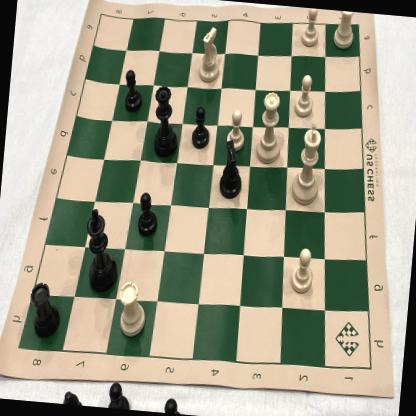black-king: (80, 206, 126, 299)
black-knight: (214, 138, 252, 202)
black-pawn: (121, 64, 149, 116), (136, 191, 162, 243), (188, 104, 214, 154)
black-queen: (149, 82, 185, 164)
black-rook: (26, 278, 67, 346)
white-king: (288, 118, 328, 209)
white-knight: (194, 22, 228, 87)
white-pawn: (223, 104, 252, 158), (288, 245, 318, 296), (292, 70, 320, 121), (298, 7, 325, 52)
white-queen: (256, 86, 286, 166)
white-rook: (114, 276, 151, 342), (329, 10, 358, 52)
